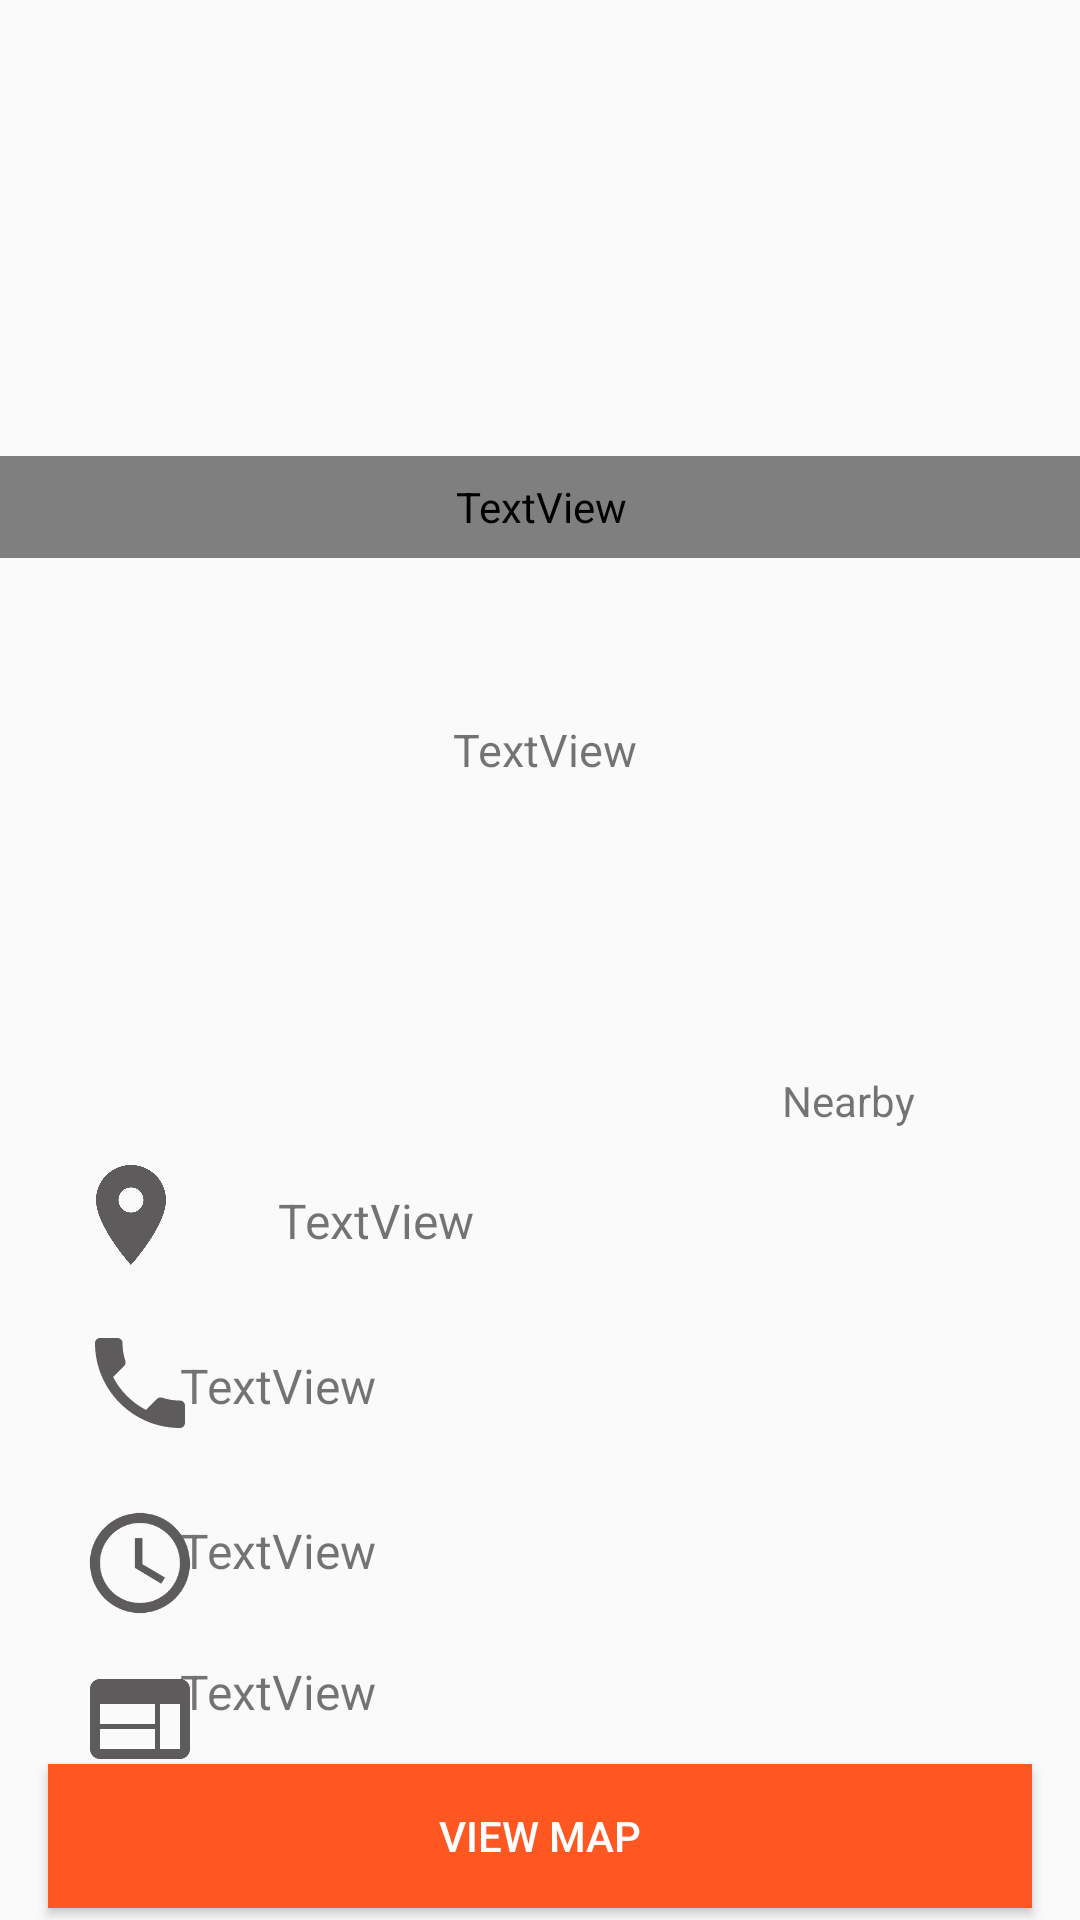

Icons on this 1080px×1920px Android screen, each with the point to tap as point (x, y):
access time: point (145, 1563)
local phone: point (140, 1383)
location on: point (131, 1215)
web: point (140, 1727)
